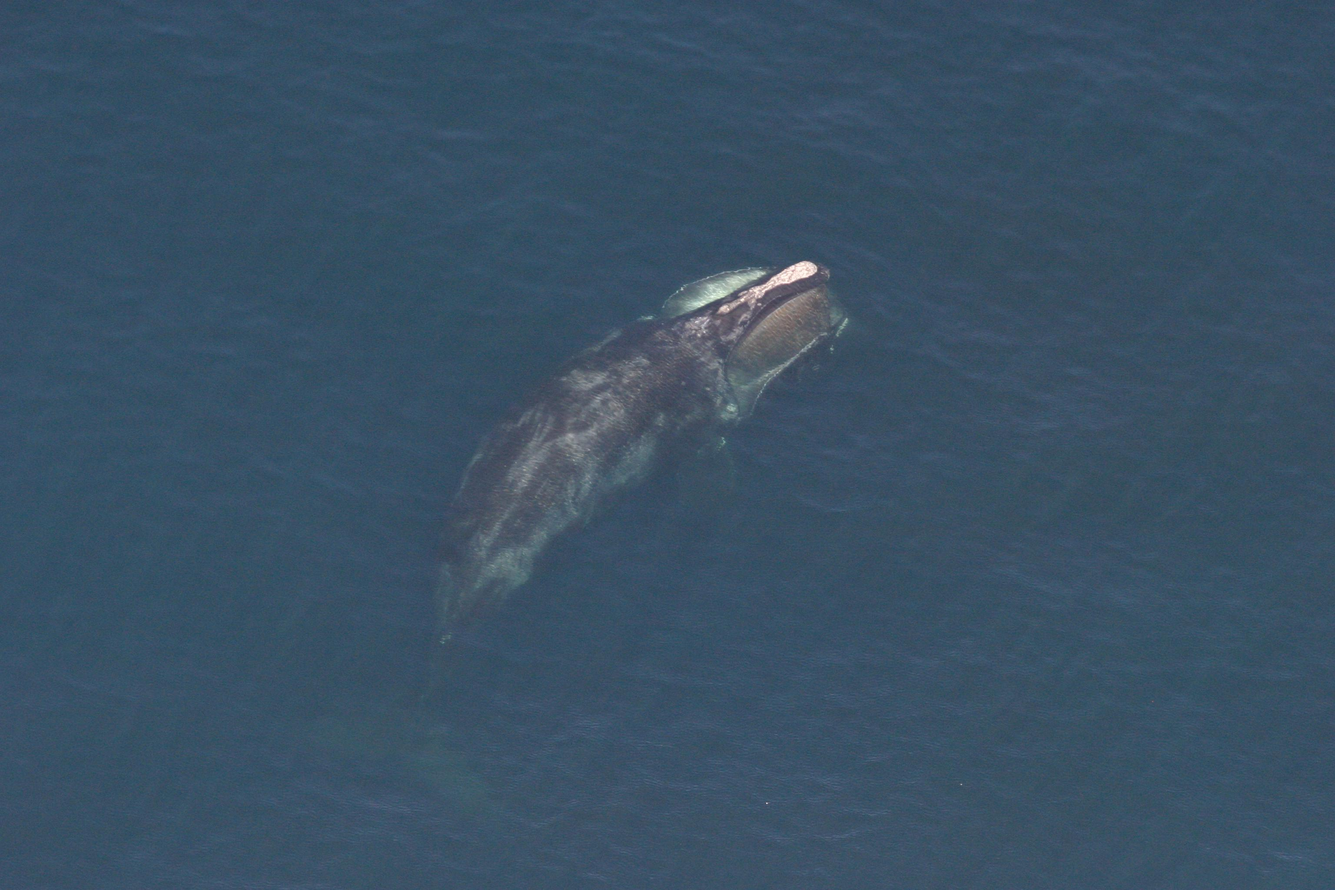whale: (285, 245, 870, 842)
